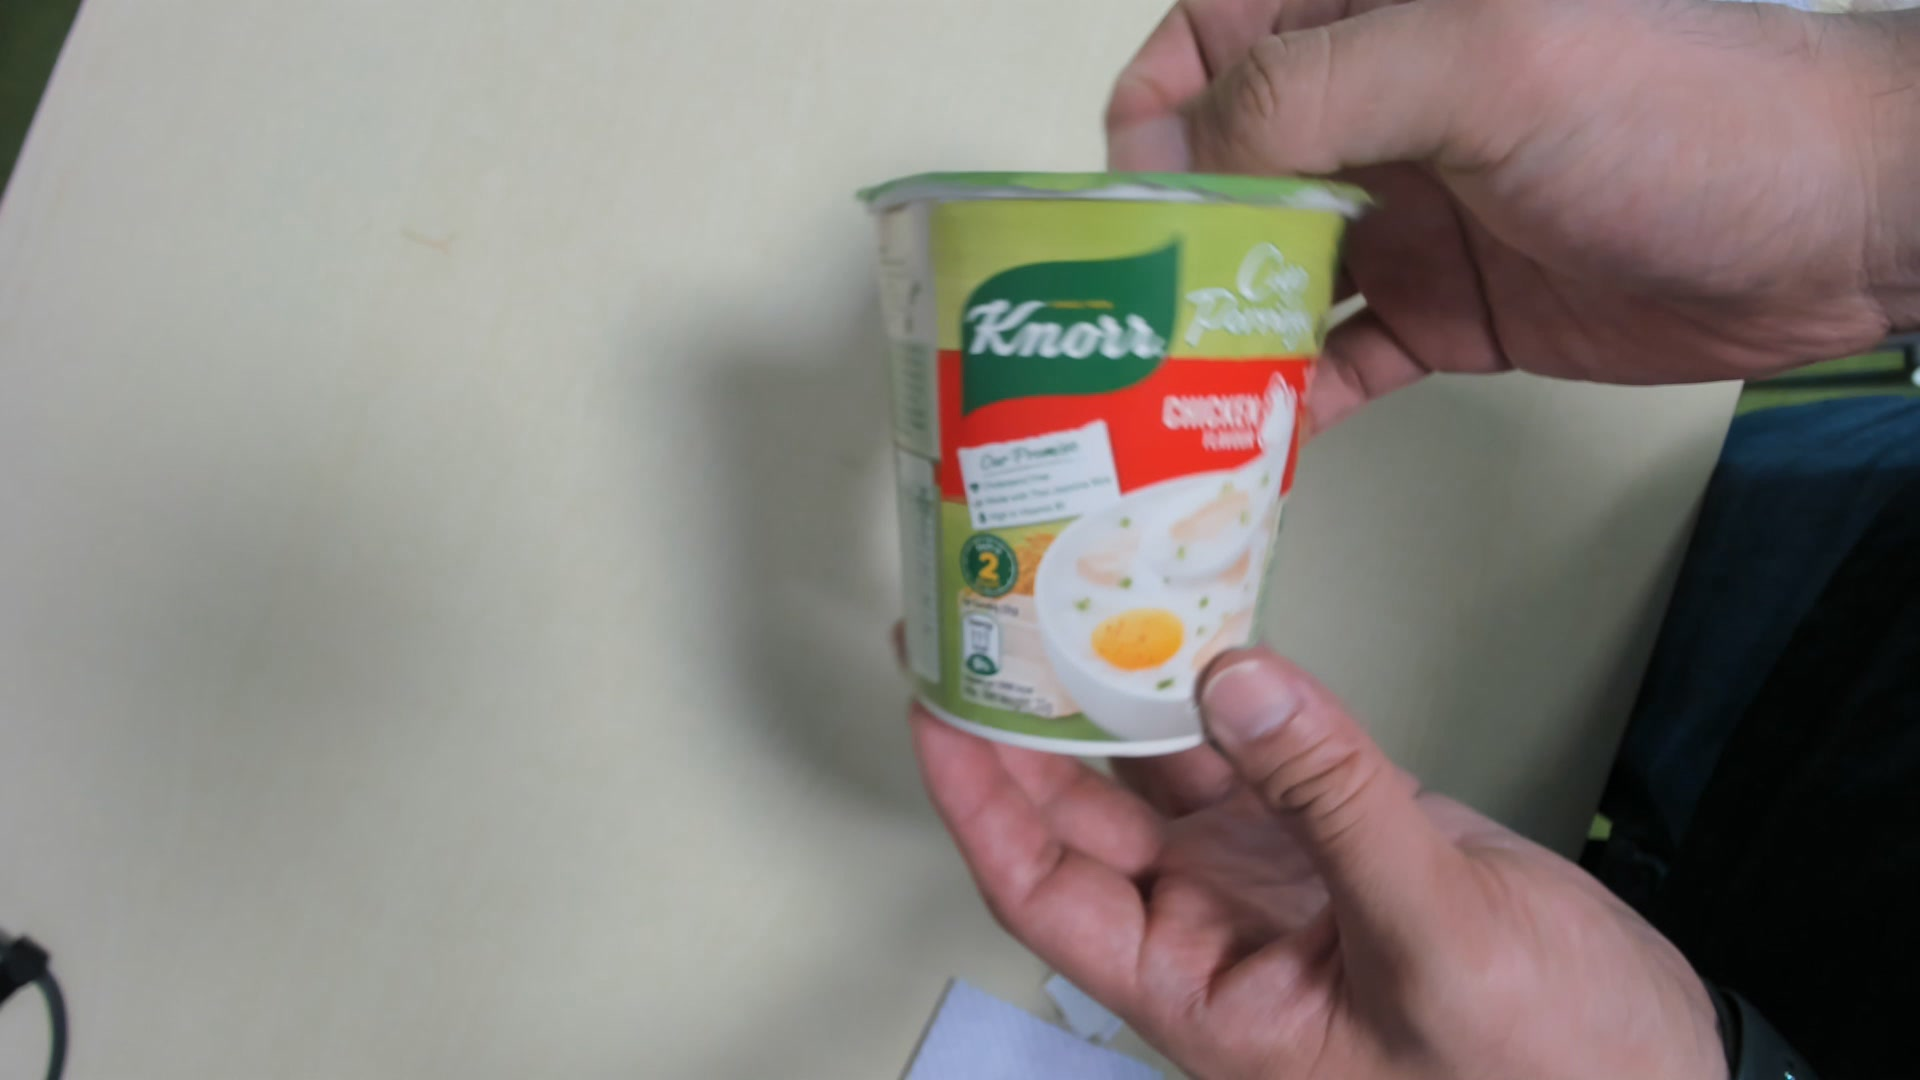InstantMeals_100-199g_Halal_NonHealthy: (860, 165, 1370, 758)
